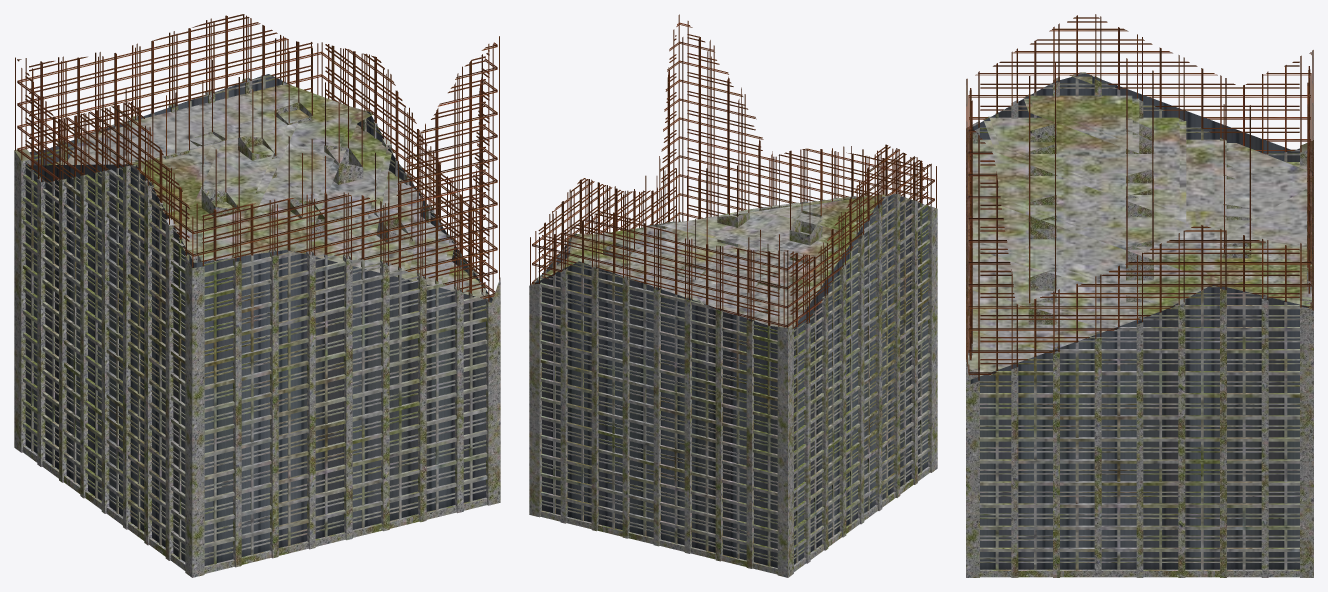
File: building-05.glb
3 views of the same model, side by side, from view 1: azimuth 30°, elevation 25°; view 2: azimuth 150°, elevation 25°; view 3: azimuth 270°, elevation 25° (orthographic). The views are drawn at different scales.
Parts seen in each view (by area): view 1: Building 05; view 2: Building 05; view 3: Building 05.
Part boxes in pixels (x1,y1,x2,y2): Building 05: (14, 14, 500, 577); Building 05: (529, 14, 937, 577); Building 05: (966, 14, 1313, 577).
Size of the model in its own units: 21 by 30.39 by 21.
Materials: 3 (3 with a texture image).
